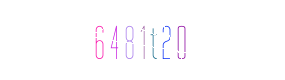0: (138, 0, 218, 80)
1: (105, 0, 185, 80)
2: (125, 0, 205, 80)
4: (99, 0, 179, 80)
6: (67, 0, 147, 80)
8: (102, 0, 182, 80)
T: (120, 0, 200, 80)
